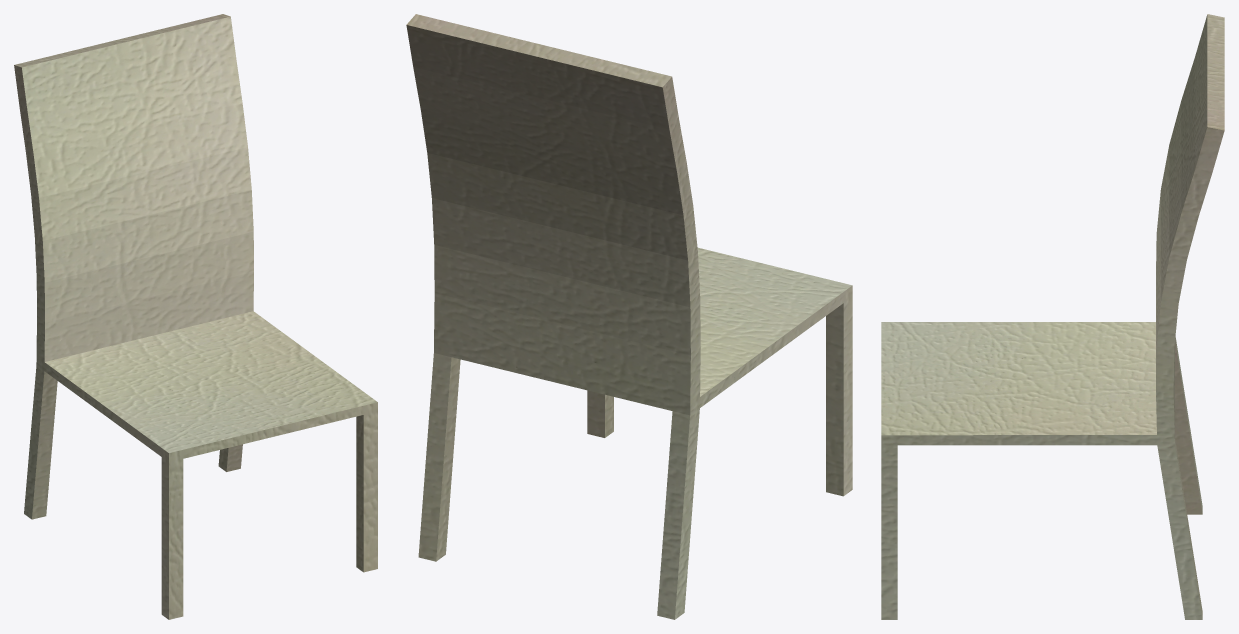
File: Chair.fbx
3 renders of one model, left to right at view 1: azimuth 30°, elevation 25°; view 2: azimuth 150°, elevation 25°; view 3: azimuth 270°, elevation 25°, orthographic. The views are drawn at different scales.
Parts seen in each view (by area): view 1: Cube; view 2: Cube; view 3: Cube.
Part boxes in pixels (left/top/right/bottom): Cube: left=14, top=14, right=377, bottom=619; Cube: left=406, top=14, right=852, bottom=619; Cube: left=881, top=14, right=1224, bottom=619.
Size of the model in its own units: 59.81 by 122 by 76.77.
